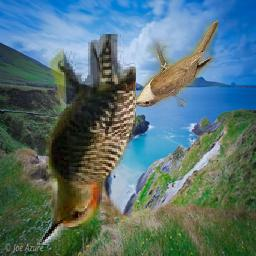Cuckoo: (130, 21, 219, 108)
Woodpecker: (38, 35, 137, 246)
